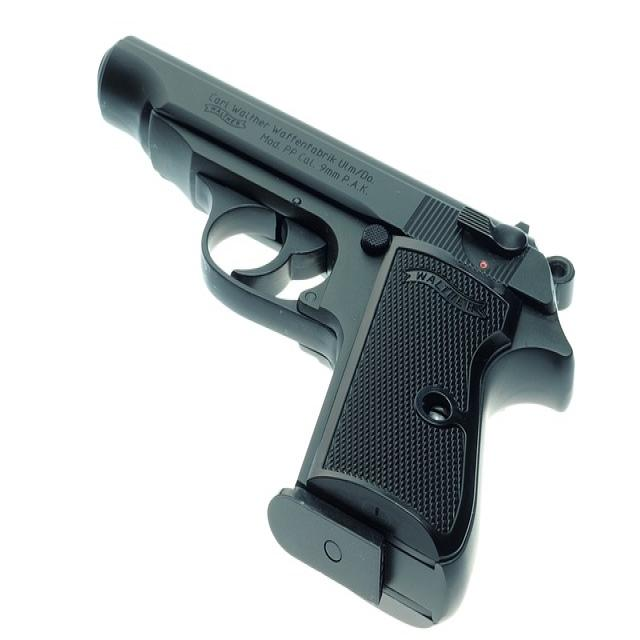pistol: (92, 28, 577, 633)
